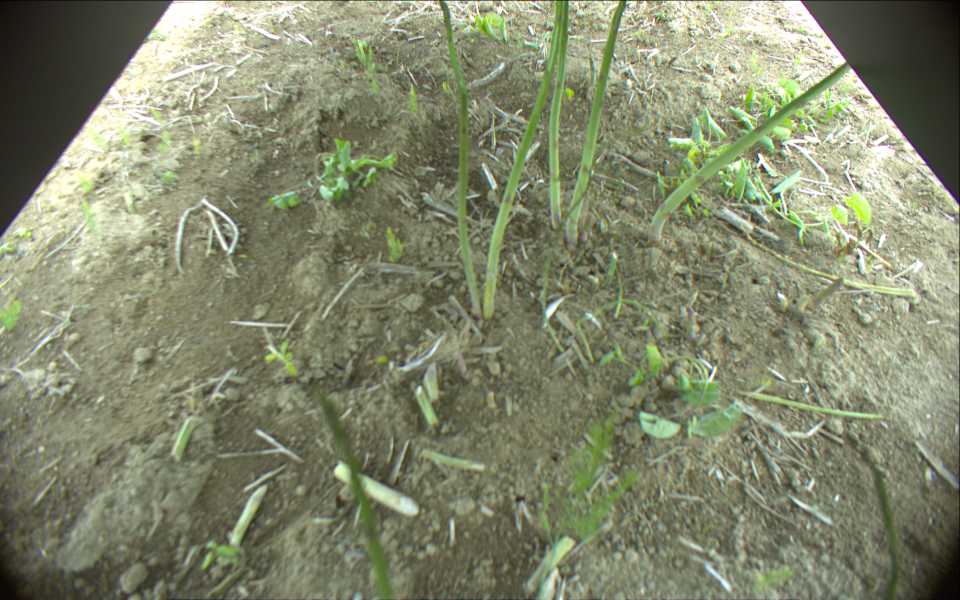aspa: (646, 61, 853, 244), (483, 1, 563, 321), (315, 391, 397, 600), (565, 1, 629, 248), (440, 1, 482, 318), (746, 234, 918, 298), (549, 1, 570, 230), (740, 391, 884, 422), (334, 466, 417, 517), (869, 466, 898, 600), (525, 535, 576, 591), (230, 486, 267, 547), (170, 414, 197, 464), (810, 278, 843, 312), (415, 387, 437, 429), (423, 363, 442, 400), (605, 255, 615, 289)
